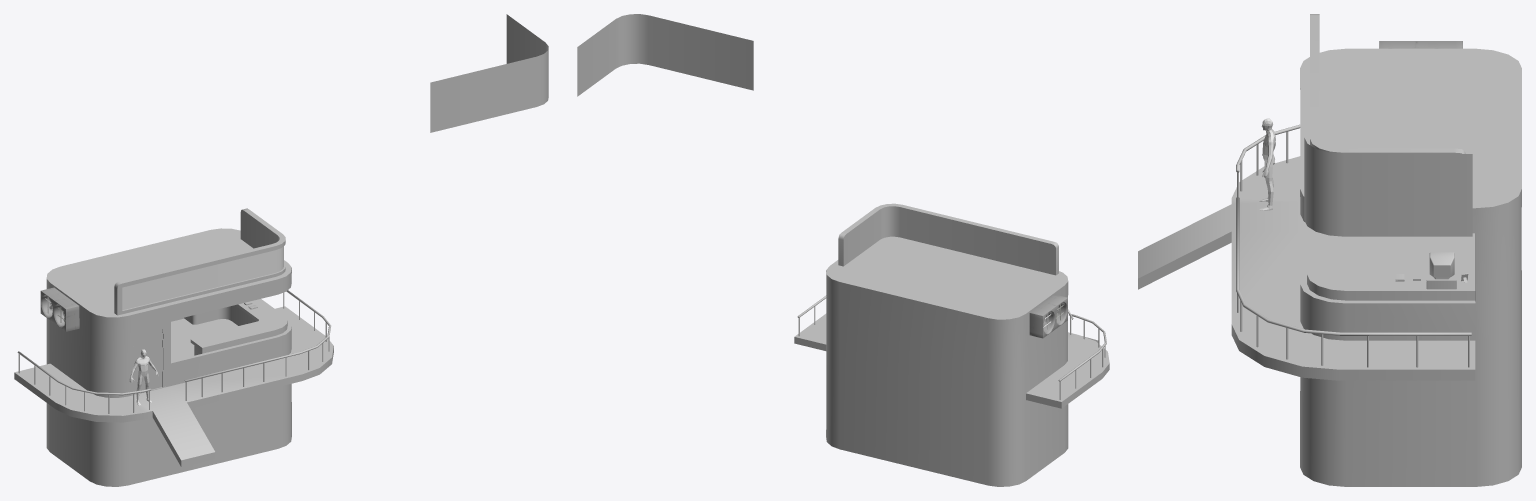
Rendered from Lab.fbx.
The picture shows the model from 3 angles, left to right: view 1: azimuth 30°, elevation 25°; view 2: azimuth 150°, elevation 25°; view 3: azimuth 270°, elevation 25°; orthographic projection. The views are drawn at different scales.
Visible parts, largest first — view 1: Cube.038, Cube.040, Cube.073, Cube.087, Cube.041, Cube.043, Cube.048, Cube.067, Cube.042, male.003; view 2: Cube.038, Cube.073, Cube.041, Cube.040, Cube.067, Cube.048; view 3: Cube.038, Cube.040, Cube.073, Cube.043, Cube.048, Cube.041, male.003, Cube.082, Cube.067, Cube.083.
Part boxes in pixels (left/top/right/bottom): Cube.038: left=46, top=228, right=291, bottom=486; Cube.040: left=14, top=306, right=333, bottom=466; Cube.073: left=430, top=14, right=548, bottom=132; Cube.087: left=122, top=246, right=283, bottom=310; Cube.041: left=114, top=208, right=285, bottom=315; Cube.043: left=184, top=299, right=287, bottom=355; Cube.048: left=17, top=290, right=330, bottom=413; Cube.067: left=40, top=287, right=79, bottom=331; Cube.042: left=133, top=332, right=163, bottom=393; male.003: left=129, top=349, right=158, bottom=405; Cube.038: left=826, top=236, right=1068, bottom=486; Cube.073: left=577, top=14, right=753, bottom=96; Cube.041: left=838, top=203, right=1058, bottom=275; Cube.040: left=794, top=313, right=1109, bottom=408; Cube.067: left=1029, top=294, right=1067, bottom=338; Cube.048: left=797, top=295, right=1106, bottom=399; Cube.038: left=1300, top=48, right=1521, bottom=486; Cube.040: left=1138, top=156, right=1475, bottom=380; Cube.073: left=1304, top=138, right=1472, bottom=236; Cube.043: left=1307, top=226, right=1475, bottom=300; Cube.048: left=1236, top=124, right=1471, bottom=367; Cube.041: left=1310, top=14, right=1465, bottom=153; male.003: left=1259, top=118, right=1275, bottom=210; Cube.082: left=1429, top=252, right=1454, bottom=279; Cube.067: left=1379, top=41, right=1462, bottom=48; Cube.083: left=1426, top=271, right=1456, bottom=289.
Size of the model in its own units: 1696 by 1082 by 698.
